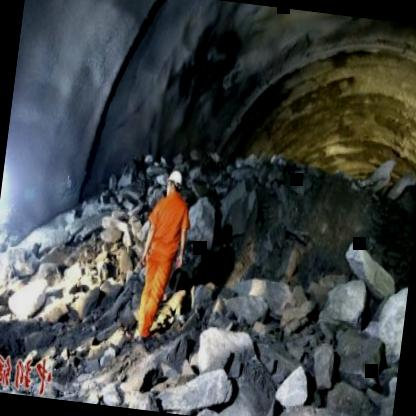helmet: (159, 164, 186, 204)
